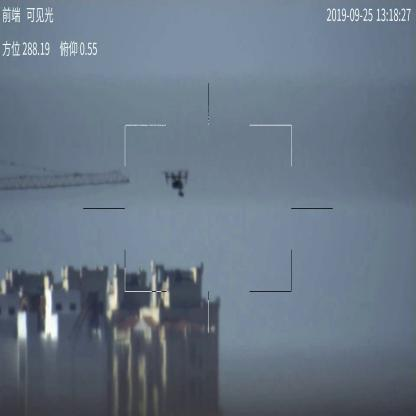uav: (162, 170, 192, 197)
